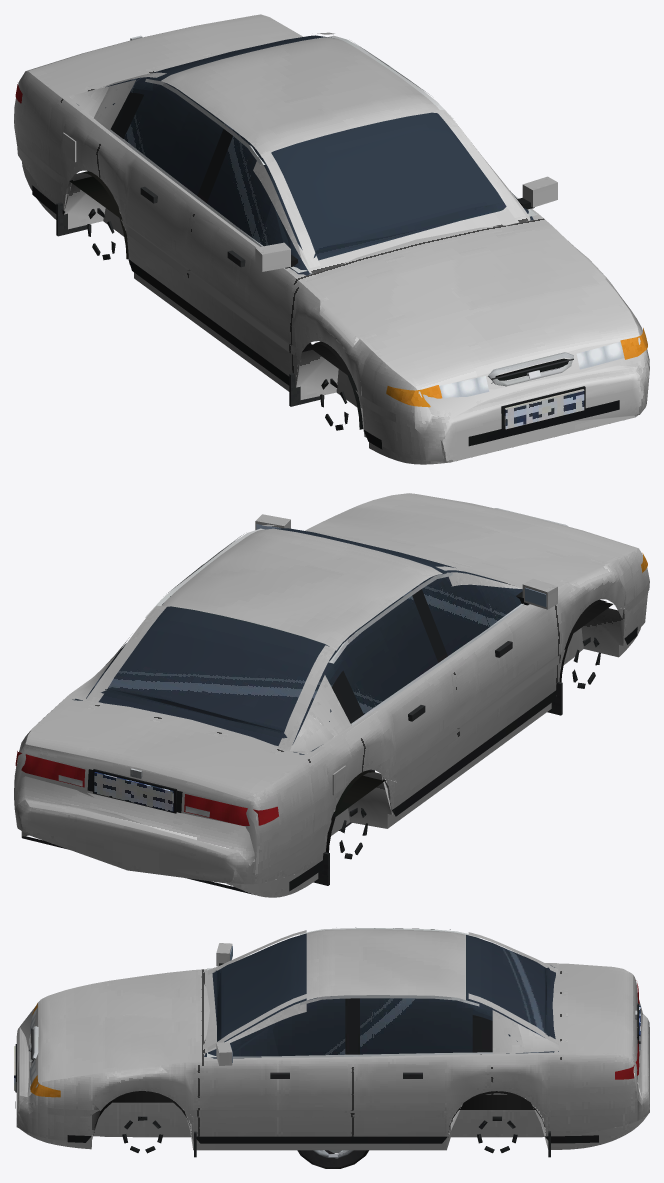
The model's file is kamden97.glb.
3 renders of one model, top to bottom at view 1: azimuth 30°, elevation 25°; view 2: azimuth 150°, elevation 25°; view 3: azimuth 270°, elevation 25°, orthographic. The views are drawn at different scales.
Visible parts, largest first — view 1: Paint, Body, Paint_far, Body_far; view 2: Paint, Body, Paint_far, Body_far; view 3: Paint, Body, Paint_far, Body_far, Wheel_far, Wheel.
Boxes of the visible parts, bbox=[...] form: Paint: bbox=[14, 14, 649, 464]; Body: bbox=[15, 35, 647, 449]; Paint_far: bbox=[14, 86, 645, 463]; Body_far: bbox=[69, 35, 645, 428]; Paint: bbox=[14, 493, 649, 897]; Body: bbox=[15, 508, 647, 894]; Paint_far: bbox=[18, 514, 625, 888]; Body_far: bbox=[79, 531, 613, 848]; Paint: bbox=[16, 929, 649, 1150]; Body: bbox=[14, 928, 640, 1157]; Paint_far: bbox=[16, 943, 649, 1149]; Body_far: bbox=[15, 927, 640, 1138]; Wheel_far: bbox=[310, 1150, 364, 1167]; Wheel: bbox=[297, 1150, 368, 1168].
Size of the model in its own units: 1.96 by 1.74 by 4.79.
Materials: 3 (3 with a texture image).
